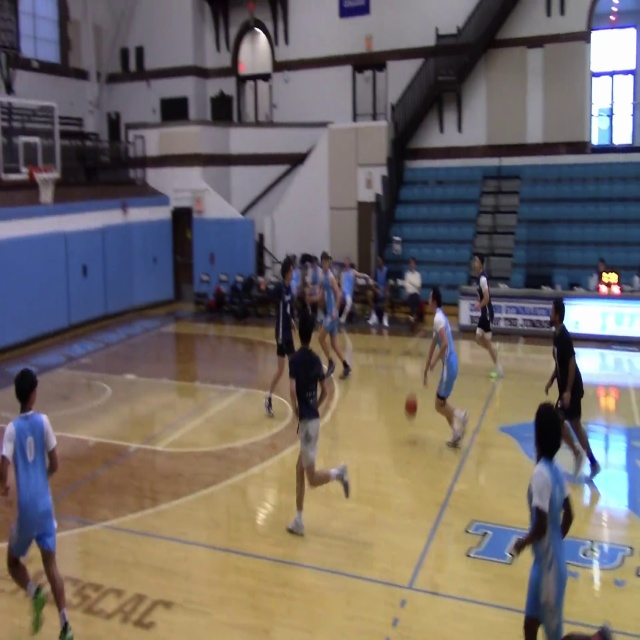Basketball: (405, 393, 417, 414), (488, 370, 497, 379)
